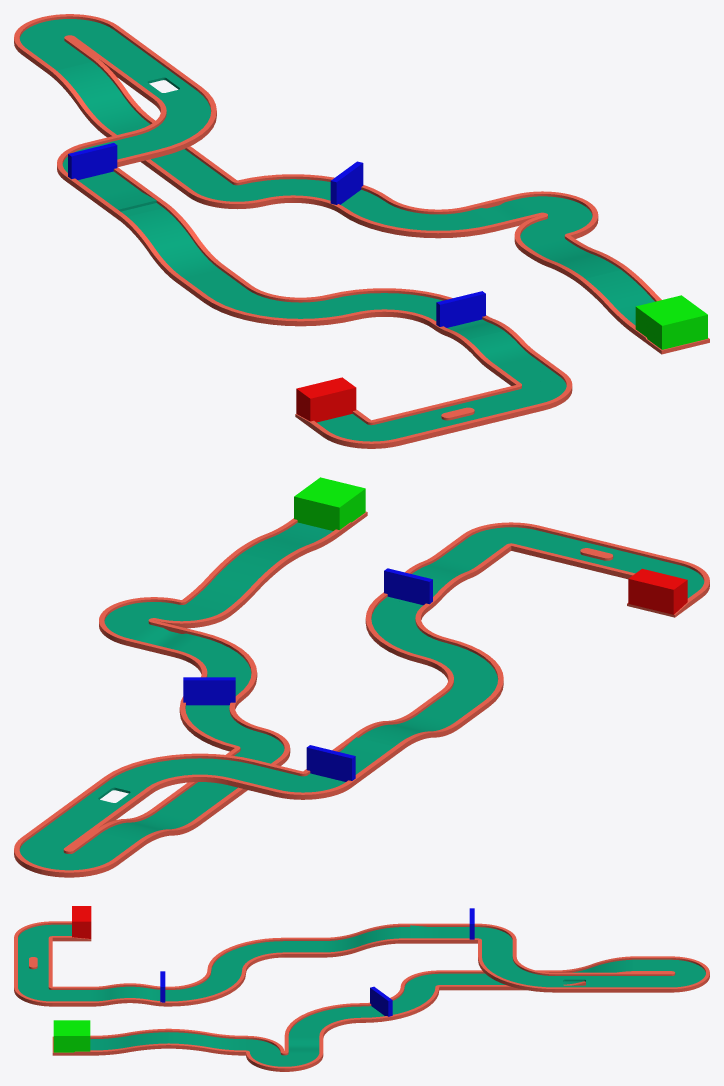
Rendered from track2.glb.
3 renders of one model, top to bottom at view 1: azimuth 30°, elevation 25°; view 2: azimuth 150°, elevation 25°; view 3: azimuth 270°, elevation 25°, orthographic. The views are drawn at different scales.
Visible parts, largest first — view 1: bend_large (×5), straight (×11), bend (×8), slope_smoothD_long (×2), slope_smoothB_long (×2), checkpoint_block (×3), start_block, slope_smoothA (×2), finish_block, straight_obstacleRound, straight_valley, straight_slope (+2 smaller); view 2: bend_large (×5), straight (×10), bend (×9), slope_smoothB_long (×2), checkpoint_block (×3), slope_smoothD_long (×2), start_block, finish_block, slope_smoothA (×2), straight_valley, straight_obstacleRound, straight_slope (+1 smaller); view 3: bend_large (×5), straight (×11), bend (×9), slope_smoothB_long (×2), slope_smoothD_long (×2), slope_smoothA (×2), start_block, straight_slope, straight_hole, straight_obstacleRound, straight_valley, finish_block (+2 smaller).
Part boxes in pixels (bbox=[...]): bend_large (×5): bbox=[133, 87, 493, 328]; straight (×11): bbox=[21, 26, 564, 445]; bend (×8): bbox=[14, 14, 598, 448]; slope_smoothD_long (×2): bbox=[49, 58, 223, 281]; slope_smoothB_long (×2): bbox=[522, 235, 661, 333]; checkpoint_block (×3): bbox=[68, 143, 485, 327]; start_block: bbox=[635, 295, 707, 349]; slope_smoothA (×2): bbox=[432, 315, 536, 368]; finish_block: bbox=[296, 377, 356, 422]; straight_obstacleRound: bbox=[420, 397, 495, 433]; straight_valley: bbox=[466, 194, 541, 231]; straight_slope: bbox=[92, 184, 167, 220]; bend_large (×5): bbox=[104, 595, 503, 793]; straight (×10): bbox=[22, 525, 681, 865]; bend (×9): bbox=[14, 522, 709, 877]; slope_smoothB_long (×2): bbox=[182, 519, 339, 616]; checkpoint_block (×3): bbox=[183, 568, 432, 781]; slope_smoothD_long (×2): bbox=[97, 710, 461, 845]; start_block: bbox=[294, 477, 365, 530]; finish_block: bbox=[628, 568, 687, 614]; slope_smoothA (×2): bbox=[381, 554, 483, 610]; straight_valley: bbox=[126, 620, 201, 656]; straight_obstacleRound: bbox=[559, 537, 633, 573]; straight_slope: bbox=[332, 731, 405, 767]; bend_large (×5): bbox=[168, 937, 555, 1037]; straight (×11): bbox=[14, 923, 671, 1006]; bend (×9): bbox=[14, 921, 709, 1071]; slope_smoothB_long (×2): bbox=[91, 1028, 245, 1055]; slope_smoothD_long (×2): bbox=[323, 923, 632, 985]; slope_smoothA (×2): bbox=[91, 983, 168, 1006]; start_block: bbox=[53, 1020, 90, 1052]; straight_slope: bbox=[400, 923, 439, 943]; straight_hole: bbox=[555, 972, 593, 992]; straight_obstacleRound: bbox=[14, 954, 52, 972]; straight_valley: bbox=[284, 1035, 323, 1053]; finish_block: bbox=[72, 906, 91, 938].
Size of the model in its own units: 18 by 1.9 by 36.
